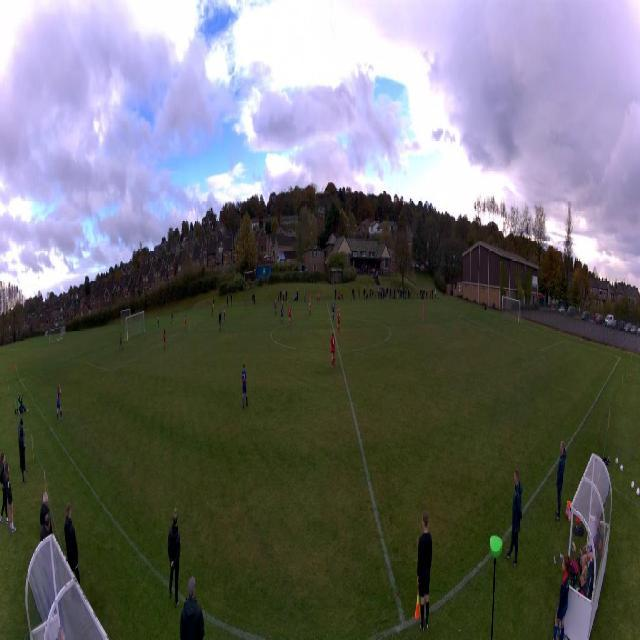ball: (173, 322, 174, 324)
player: (242, 360, 248, 410), (56, 385, 63, 423), (329, 333, 336, 369), (288, 305, 293, 326), (337, 308, 341, 334), (331, 300, 335, 321), (218, 312, 222, 333), (119, 333, 123, 351), (273, 299, 277, 316), (308, 297, 311, 316), (281, 306, 284, 325), (422, 303, 425, 321), (223, 307, 226, 324), (164, 329, 166, 350), (281, 299, 284, 313), (316, 293, 319, 305), (171, 313, 174, 325), (184, 315, 186, 332), (219, 306, 222, 317), (157, 315, 159, 330), (211, 306, 213, 317), (244, 296, 246, 307), (319, 293, 321, 304)
